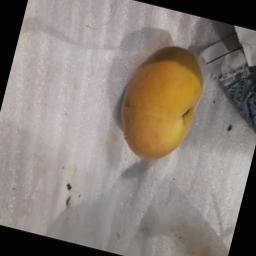Peach Unripe: (107, 30, 215, 172)
